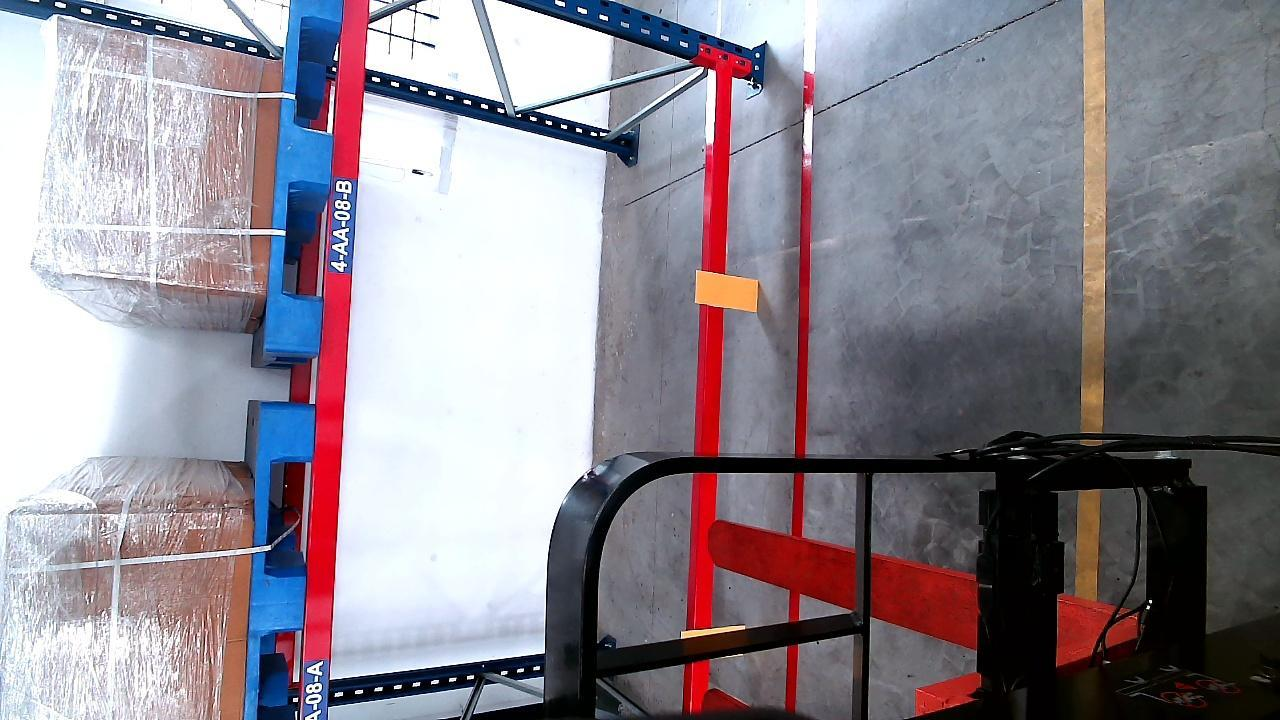red_line: (795, 0, 816, 453)
